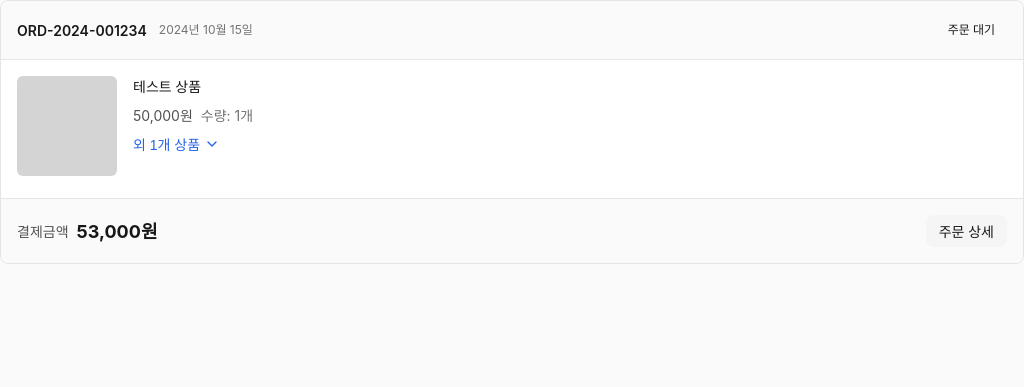
Test: OrderCard › expand/collapse for multiple items › should collapse expanded items when clicked again
Click the button "외 1개 상품".
click(177, 144)  # box left=133, top=134, right=220, bottom=154
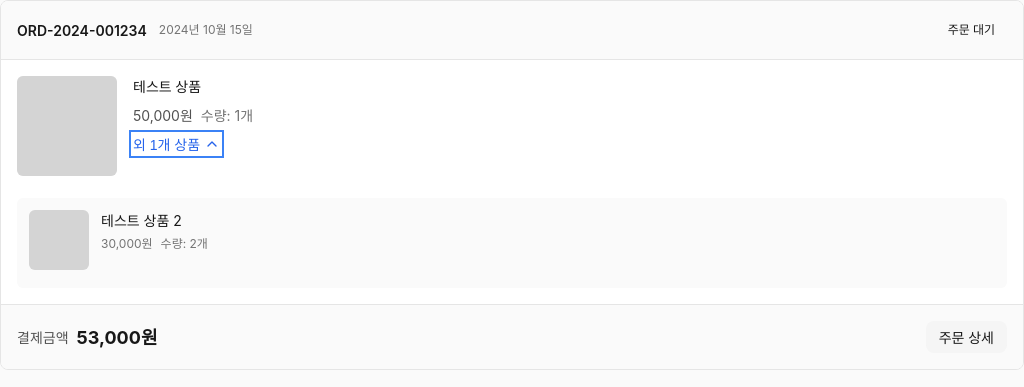
Expected: the link "테스트 상품 2" is shown, left=101, top=212, right=182, bottom=229
Click the button "외 1개 상품".
click(177, 144)  # box left=133, top=134, right=220, bottom=154
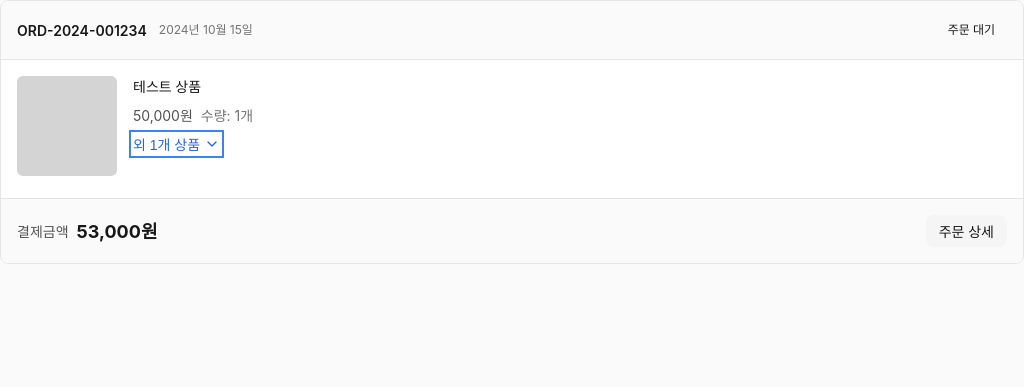
Expected: the text "수량: 2개" is gone
